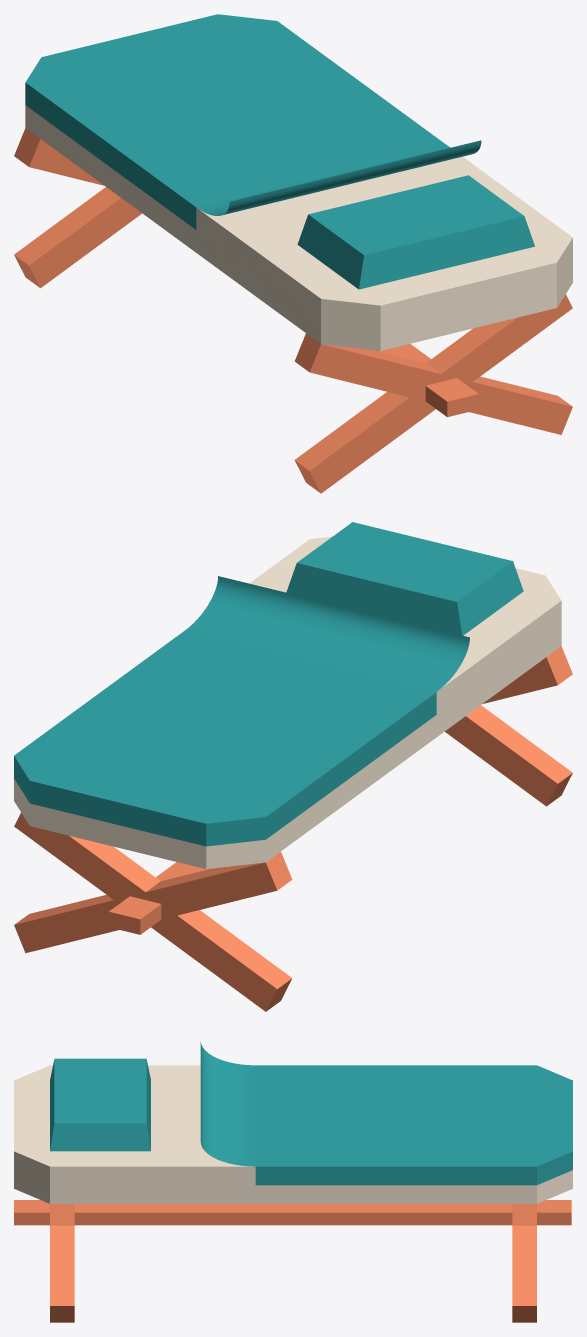
3 renders of one model, top to bottom at view 1: azimuth 30°, elevation 25°; view 2: azimuth 150°, elevation 25°; view 3: azimuth 270°, elevation 25°, orthographic. The views are drawn at different scales.
Parts seen in each view (by area): view 1: bed; view 2: bed; view 3: bed.
Boxes of the visible parts, left/top/right/bottom form: bed: left=14, top=14, right=572, bottom=493; bed: left=14, top=522, right=572, bottom=1011; bed: left=14, top=1041, right=572, bottom=1322.
Bounding box in the file's own units: 0.3349 × 0.2737 × 0.7473.
